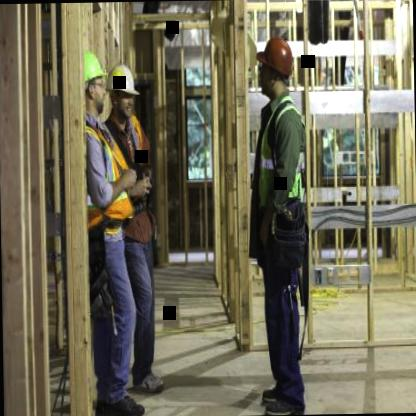helmet: (250, 33, 297, 94), (72, 46, 106, 118), (108, 58, 140, 126)
